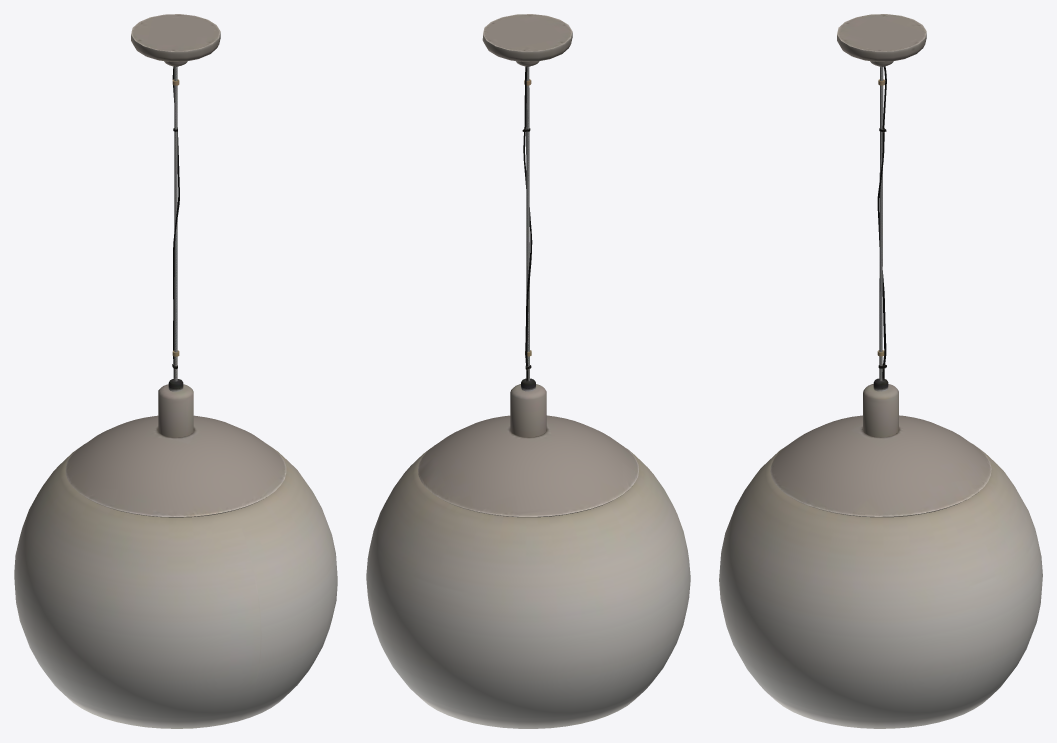
Rendered from ceiling-lamp.glb.
3 views of the same model, side by side, from view 1: azimuth 30°, elevation 25°; view 2: azimuth 150°, elevation 25°; view 3: azimuth 270°, elevation 25° (orthographic).
Visible parts, largest first — view 1: ceiling-lamp; view 2: ceiling-lamp; view 3: ceiling-lamp.
Boxes of the visible parts, x1=… form: ceiling-lamp: x1=14, y1=14, x2=337, y2=728; ceiling-lamp: x1=366, y1=14, x2=690, y2=728; ceiling-lamp: x1=719, y1=14, x2=1042, y2=728.
Bounding box in the file's own units: 0.4316 × 0.9517 × 0.4316.
Materials: 3 (3 with a texture image).
